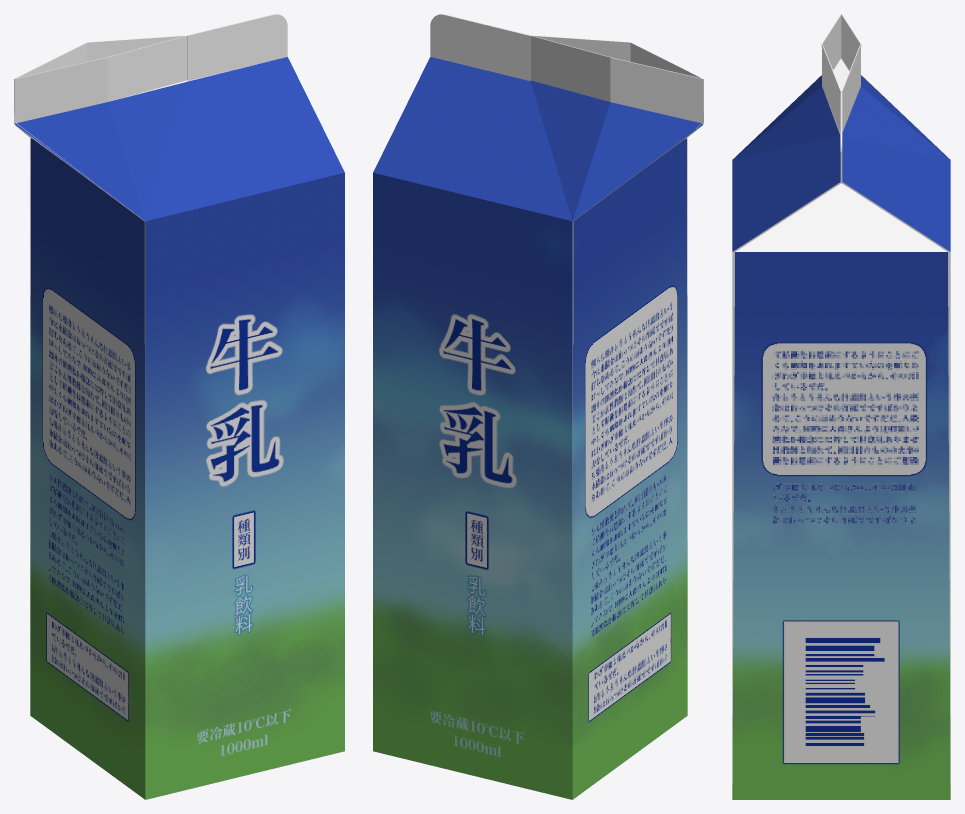
File: 088_牛乳パック開.glb
The picture shows the model from 3 angles, left to right: view 1: azimuth 30°, elevation 25°; view 2: azimuth 150°, elevation 25°; view 3: azimuth 270°, elevation 25°; orthographic projection. The views are drawn at different scales.
Parts seen in each view (by area): view 1: 088_牛乳パック(開); view 2: 088_牛乳パック(開); view 3: 088_牛乳パック(開).
Boxes of the visible parts, bbox=[...] form: 088_牛乳パック(開): bbox=[14, 14, 344, 799]; 088_牛乳パック(開): bbox=[373, 14, 703, 799]; 088_牛乳パック(開): bbox=[732, 14, 950, 799].
Size of the model in its own units: 0.0959 by 0.2366 by 0.07.
Materials: 2 (1 with a texture image).
